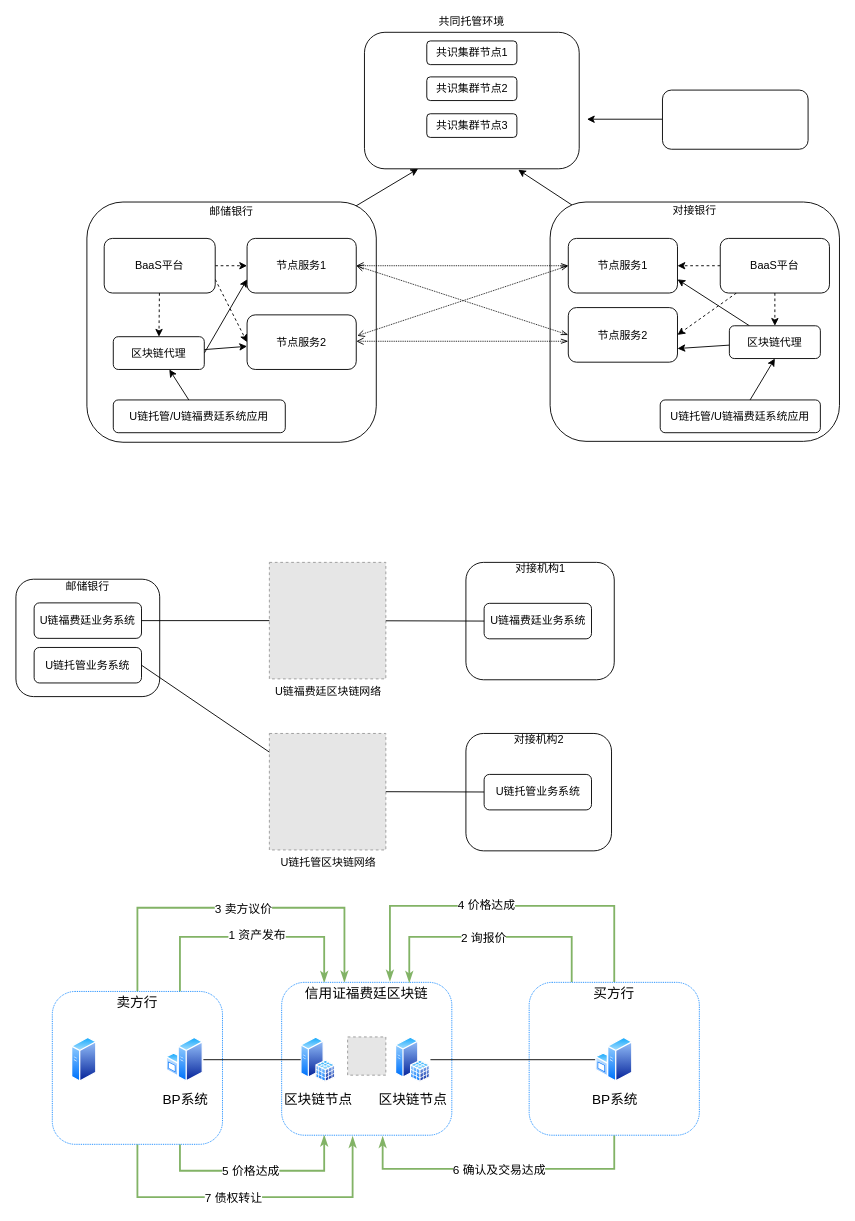
Some shapes in this 855 by 1221 pixel diagram are drawn without their labels. Grey dashed boxes stand in for pictures. Each missing label, with the centre of its shape:
"国结系统" belongs at (83,1059).
"银行N ....." belongs at (735,119).
